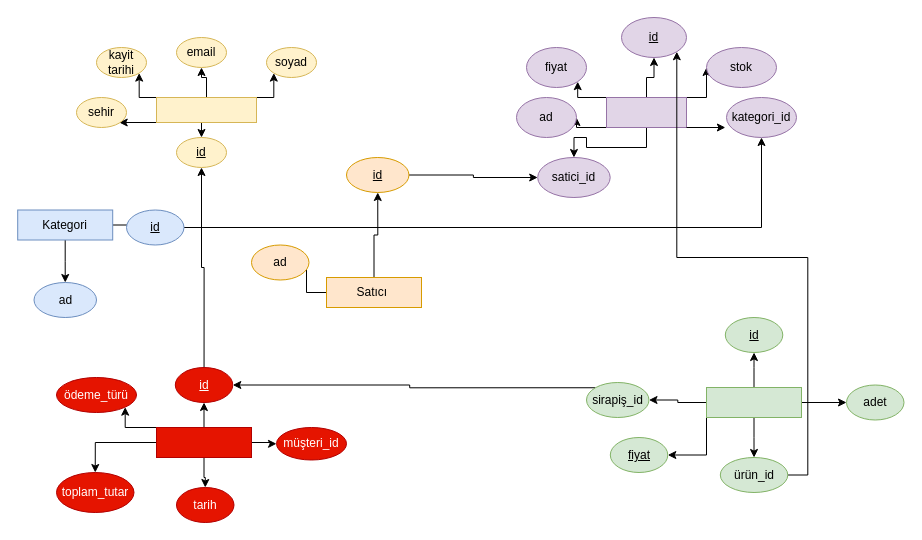
Some shapes in this 922 by 540 pixel diagram are drawn without their labels. The shapes that lost their labels are listed below. From the top down, each one's centre as x and y in pixels, then its label:
the point at 206,109: müsteri
the point at 646,112: Ürün
the point at 754,402: Sipariş_detay
the point at 204,442: Sipariş
